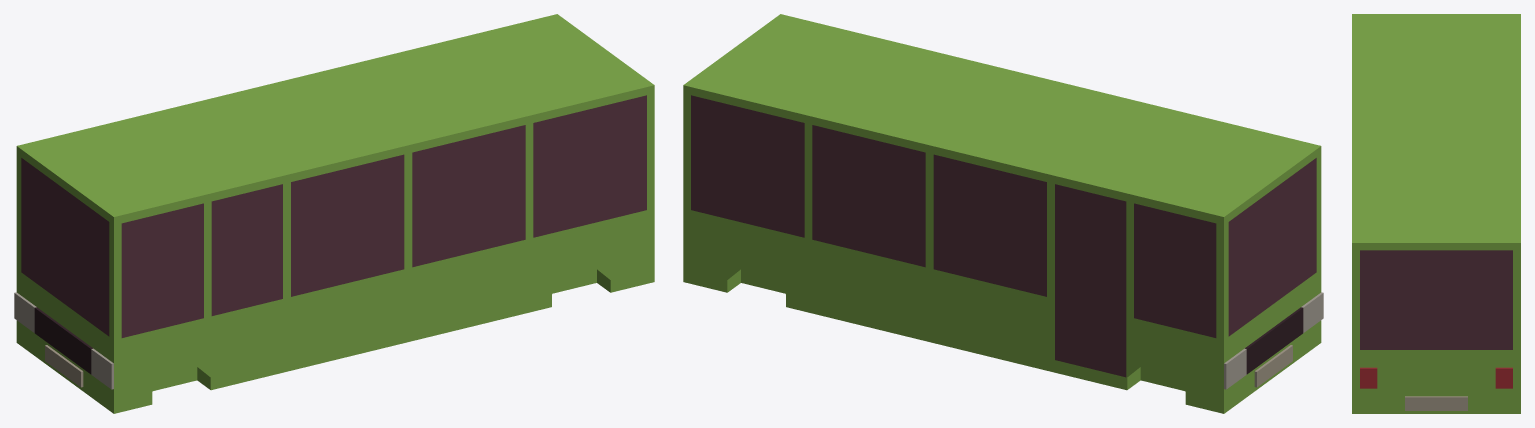
Rendered from Bus_Green.fbx.
3 renders of one model, left to right at view 1: azimuth 30°, elevation 25°; view 2: azimuth 150°, elevation 25°; view 3: azimuth 270°, elevation 25°, orthographic. The views are drawn at different scales.
Parts seen in each view (by area): view 1: Bus_Green, Bus_Lights; view 2: Bus_Green, Bus_Lights; view 3: Bus_Green, Bus_Lights.
Boxes of the visible parts, bbox=[...] form: Bus_Green: bbox=[16, 14, 654, 413]; Bus_Lights: bbox=[14, 292, 113, 389]; Bus_Green: bbox=[683, 14, 1321, 413]; Bus_Lights: bbox=[1224, 292, 1323, 389]; Bus_Green: bbox=[1352, 14, 1520, 413]; Bus_Lights: bbox=[1360, 367, 1512, 388].
Size of the model in its own units: 6.96 by 2.4 by 2.15.
